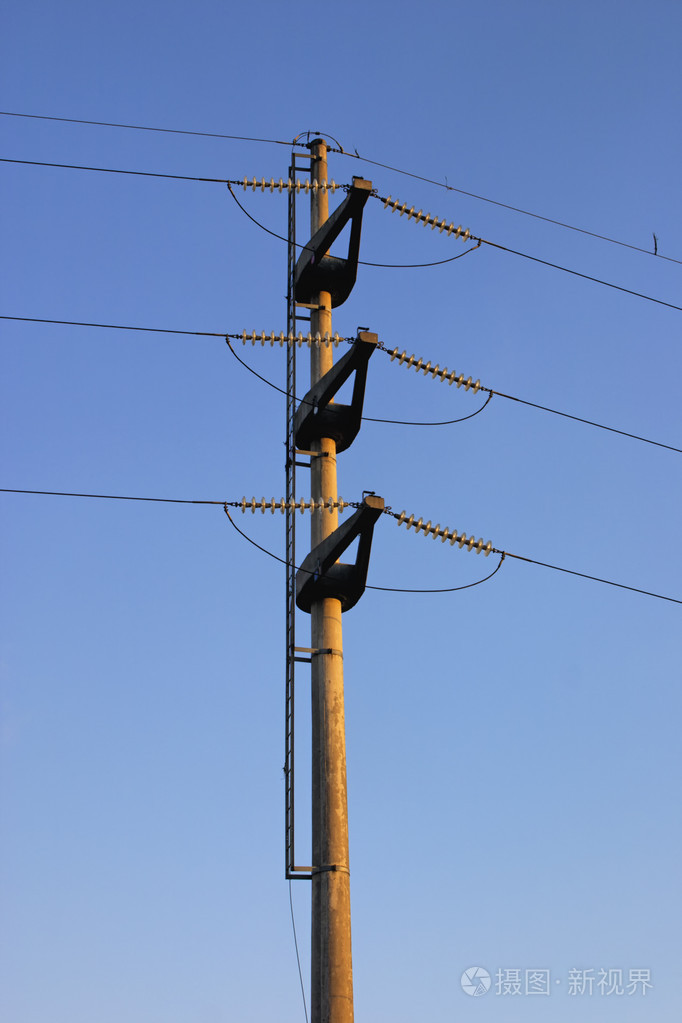insulator: (389, 511, 494, 558), (388, 345, 483, 394), (380, 193, 472, 243), (240, 492, 347, 517), (235, 326, 341, 349), (237, 176, 340, 197)
